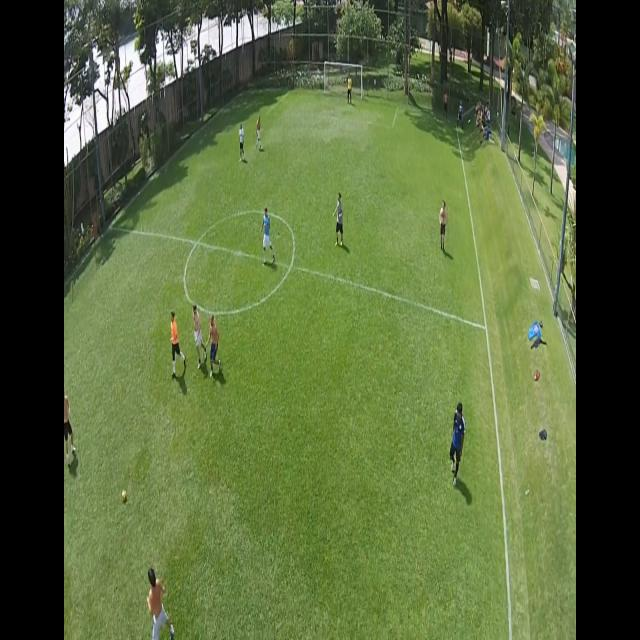humans: (145, 560, 176, 640), (448, 394, 466, 486), (169, 307, 187, 384), (191, 301, 208, 376), (260, 202, 276, 268), (436, 197, 451, 256), (334, 187, 347, 255), (208, 313, 222, 376), (238, 116, 247, 165), (254, 112, 264, 154)
